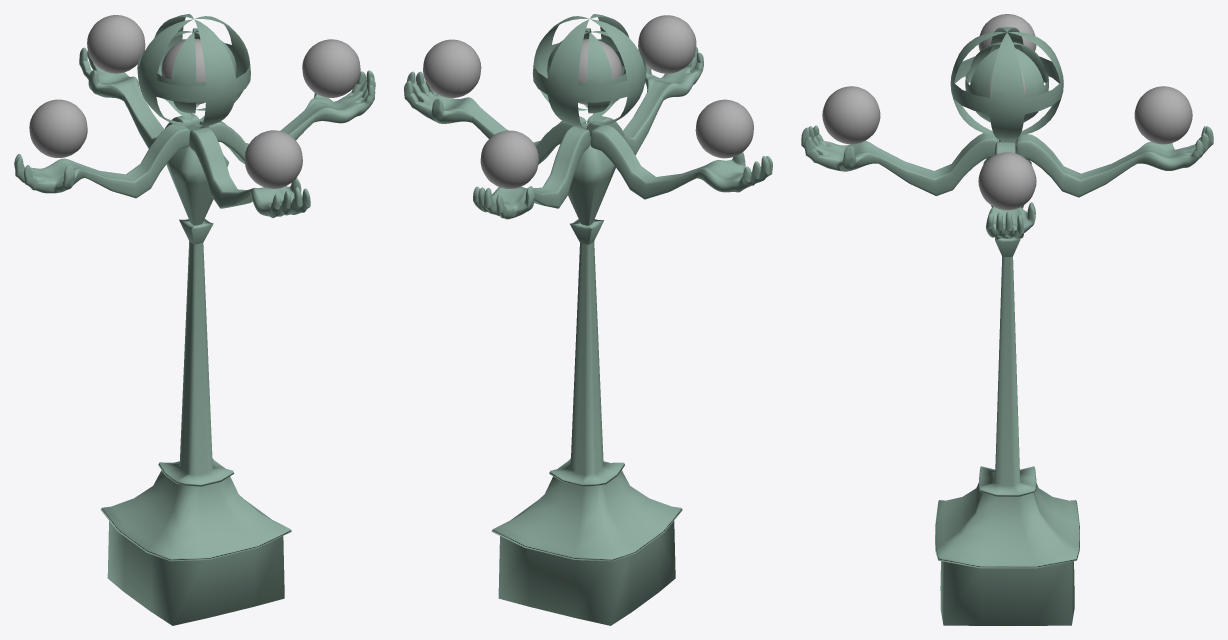
The model's file is props_StreetLamp.fbx.
3 renders of one model, left to right at view 1: azimuth 30°, elevation 25°; view 2: azimuth 150°, elevation 25°; view 3: azimuth 270°, elevation 25°, orthographic.
Visible parts, largest first — view 1: pCube68, pSphere8, pCube71, pCube69, pCube72, pCube70, pSphere5, pSphere3, pSphere6, pSphere4, pSphere9, pSphere11; view 2: pCube68, pSphere8, pCube71, pCube70, pCube72, pCube69, pSphere5, pSphere4, pSphere6, pSphere3, pSphere9, pSphere11; view 3: pCube68, pSphere8, pCube69, pCube70, pSphere3, pSphere4, pSphere6, pSphere9, pCube72, pSphere5.
Boxes of the visible parts, x1,y1,x2,y2 form: pCube68: (100, 146, 291, 625); pSphere8: (137, 14, 250, 127); pCube71: (14, 124, 190, 198); pCube69: (189, 127, 310, 217); pCube72: (199, 70, 375, 163); pCube70: (79, 47, 199, 148); pSphere5: (29, 99, 87, 157); pSphere3: (244, 130, 302, 188); pSphere6: (302, 39, 360, 97); pSphere4: (87, 15, 145, 73); pSphere9: (156, 28, 236, 113); pSphere11: (161, 38, 205, 104); pCube68: (491, 137, 682, 625); pSphere8: (532, 14, 646, 127); pCube71: (590, 125, 772, 199); pCube70: (473, 126, 590, 219); pCube72: (404, 71, 586, 164); pCube69: (586, 46, 703, 155); pSphere5: (695, 99, 753, 158); pSphere4: (480, 130, 538, 188); pSphere6: (423, 39, 481, 97); pSphere3: (638, 15, 696, 73); pSphere9: (547, 28, 627, 113); pSphere11: (578, 39, 621, 104); pCube68: (935, 150, 1079, 625); pSphere8: (950, 27, 1063, 140); pCube69: (801, 125, 998, 195); pCube70: (1016, 126, 1213, 197); pSphere3: (822, 86, 880, 144); pSphere4: (1134, 86, 1192, 144); pSphere6: (978, 152, 1036, 210); pSphere9: (965, 42, 1048, 122); pCube72: (986, 141, 1035, 239); pSphere5: (978, 14, 1036, 51).
Bounding box in the file's own units: 42.03 × 63.53 × 42.03.
